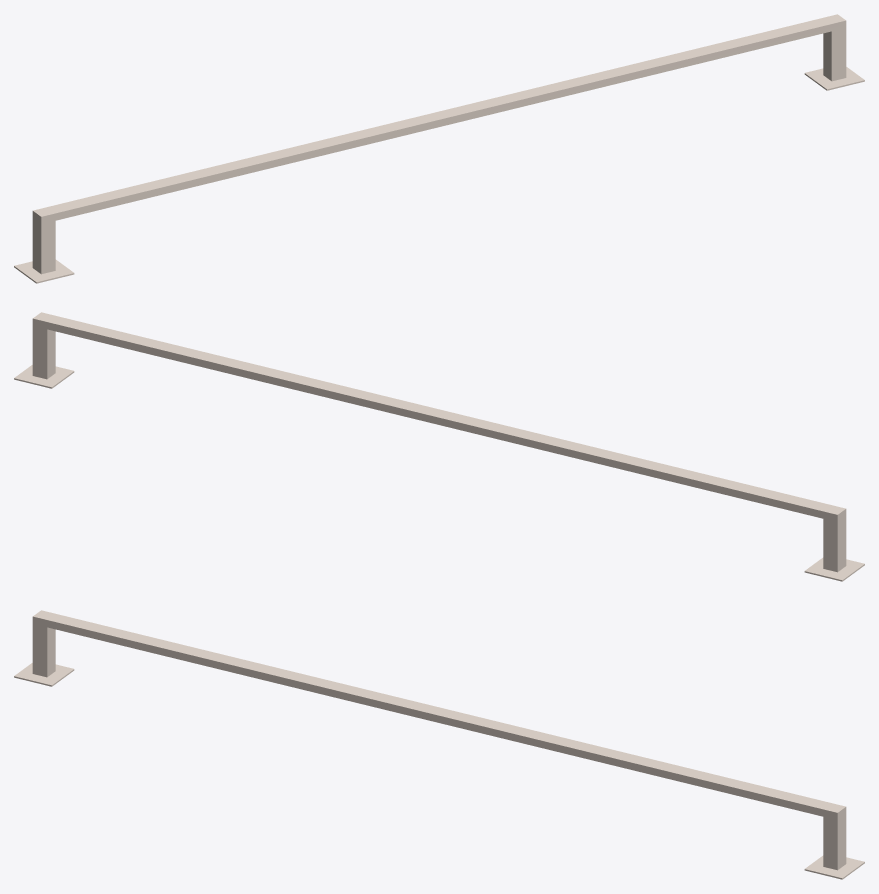
The model's file is DrawermeshCoffeeTableDrawer_315_3_6_GeomSubset_0.obj.
3 views of the same model, one above another, from view 1: azimuth 30°, elevation 25°; view 2: azimuth 150°, elevation 25°; view 3: azimuth 330°, elevation 25° (orthographic).
Visible parts, largest first — view 1: DrawermeshCoffeeTableDrawer_315_3_6_GeomSubset_0; view 2: DrawermeshCoffeeTableDrawer_315_3_6_GeomSubset_0; view 3: DrawermeshCoffeeTableDrawer_315_3_6_GeomSubset_0.
Part boxes in pixels (<box>): DrawermeshCoffeeTableDrawer_315_3_6_GeomSubset_0: <box>14,14,864,283</box>; DrawermeshCoffeeTableDrawer_315_3_6_GeomSubset_0: <box>14,312,864,581</box>; DrawermeshCoffeeTableDrawer_315_3_6_GeomSubset_0: <box>14,610,864,879</box>.
Size of the model in its own units: 0.4794 by 0.0325 by 0.0226.
